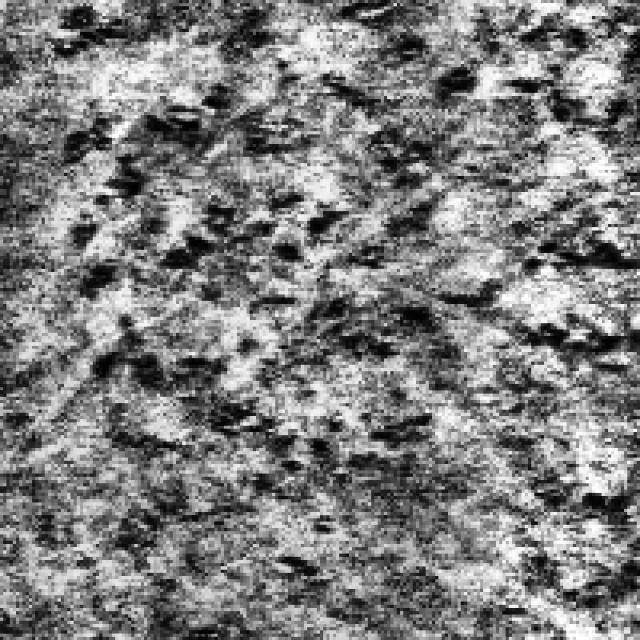Crazing: (54, 80, 336, 470), (426, 147, 636, 387)
